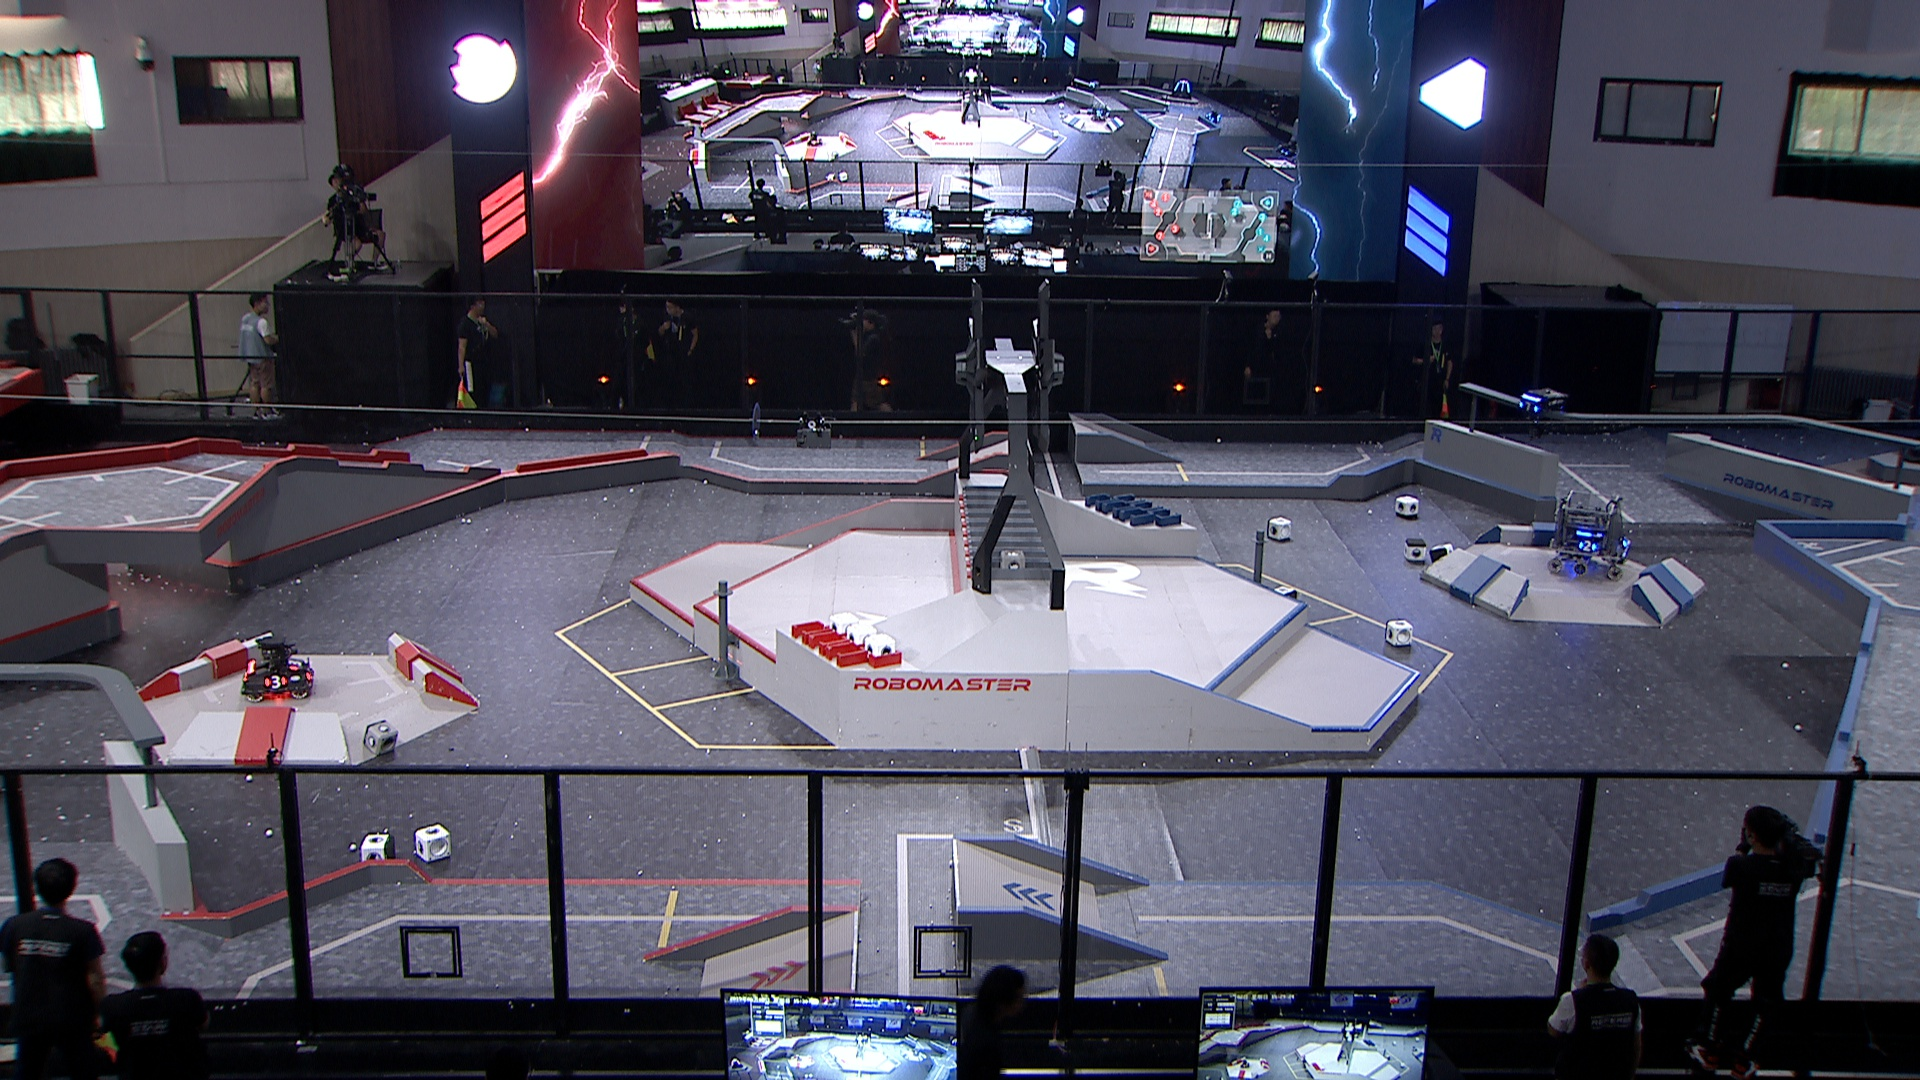armor: (261, 674, 290, 692), (1516, 400, 1539, 415), (285, 657, 305, 673), (1576, 541, 1600, 553)
car: (1548, 488, 1636, 582), (237, 636, 318, 703)
watcher: (1513, 385, 1569, 440)
